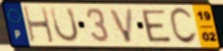3: (86, 6, 111, 45)
C: (168, 6, 199, 46)
E: (139, 9, 174, 44)
H: (22, 5, 56, 44)
U: (48, 6, 81, 44)
V: (107, 7, 135, 44)
